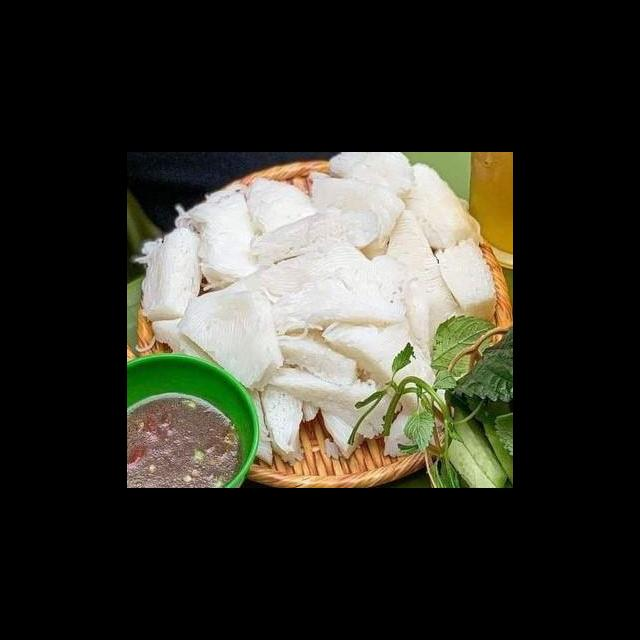bun: (130, 153, 502, 466)
